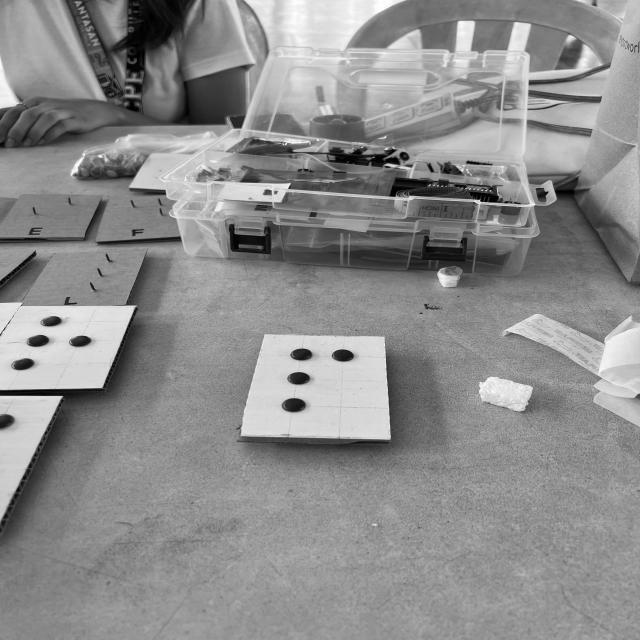braiile: (244, 334, 388, 437)
